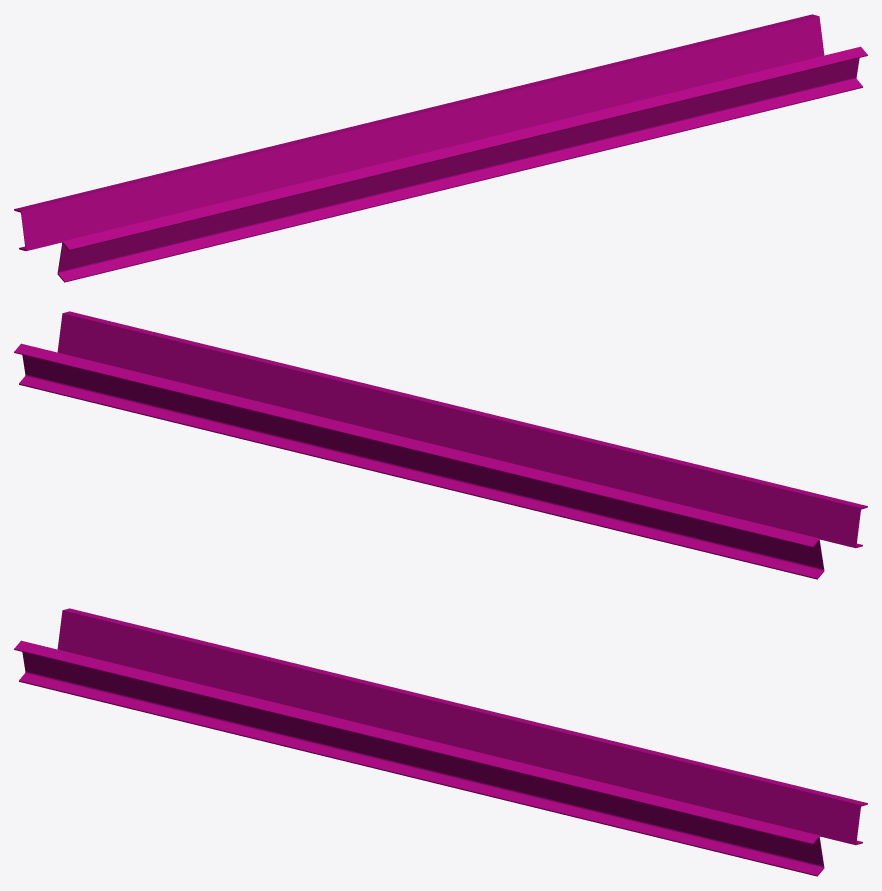
3 views of the same model, one above another, from view 1: azimuth 30°, elevation 25°; view 2: azimuth 150°, elevation 25°; view 3: azimuth 330°, elevation 25° (orthographic).
Visible parts, largest first — view 1: 0x4BOgOX9AZRmgJNoG9AnQ_h1253305; view 2: 0x4BOgOX9AZRmgJNoG9AnQ_h1253305; view 3: 0x4BOgOX9AZRmgJNoG9AnQ_h1253305.
Boxes of the visible parts, box(x1,y1,x2,y2) form: 0x4BOgOX9AZRmgJNoG9AnQ_h1253305: box(14, 14, 867, 282); 0x4BOgOX9AZRmgJNoG9AnQ_h1253305: box(14, 311, 867, 579); 0x4BOgOX9AZRmgJNoG9AnQ_h1253305: box(14, 608, 867, 876).
Bounding box in the file's own units: 6 × 0.285 × 0.7231.
